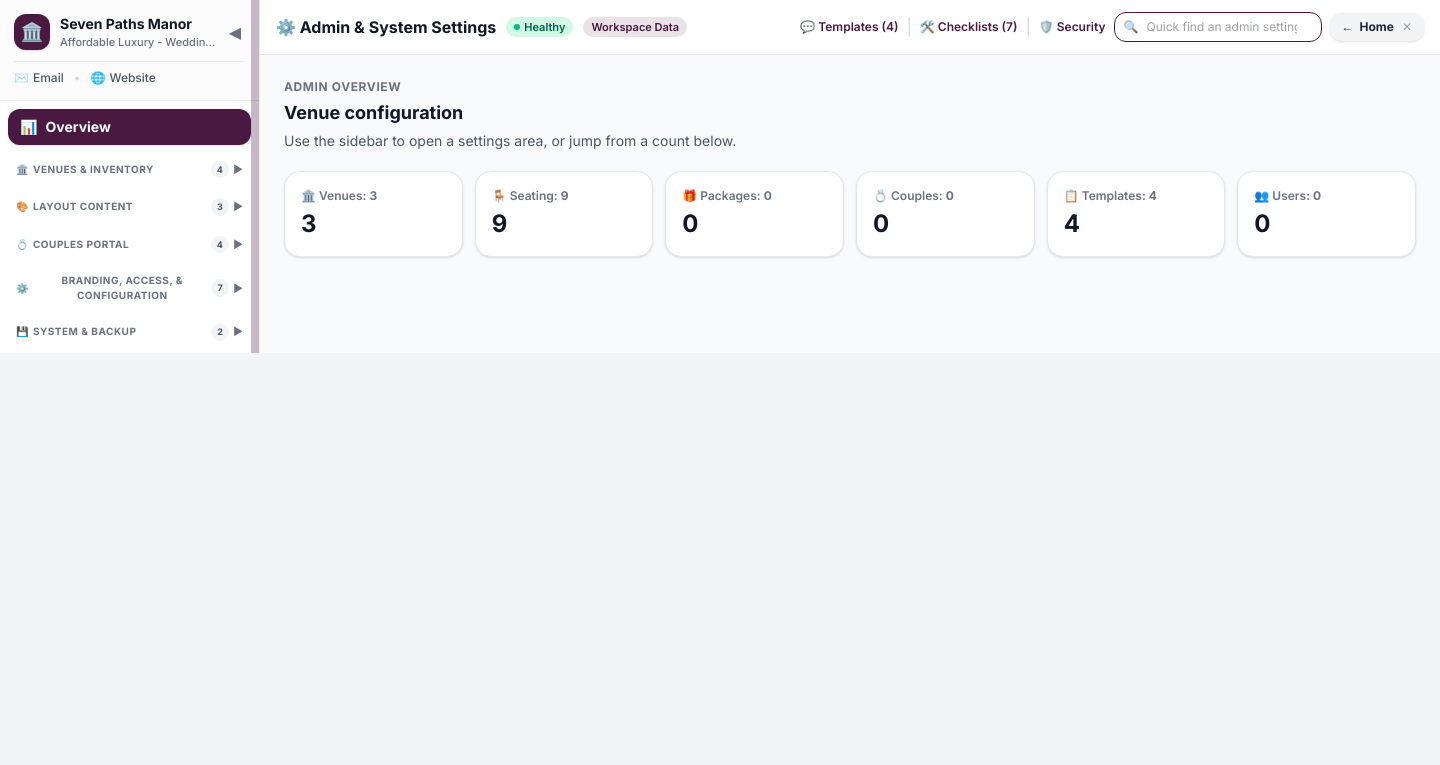
Scenario: Admin & System Settings High-Density Executive UX (#155) › renders 1-row Presets and Integrated Toolbars across TableManagement and LinenManagement
# Switch to Seating tab
Click the button "🪑 Seating: 9 9": x=564, y=214 [475,171,653,257]
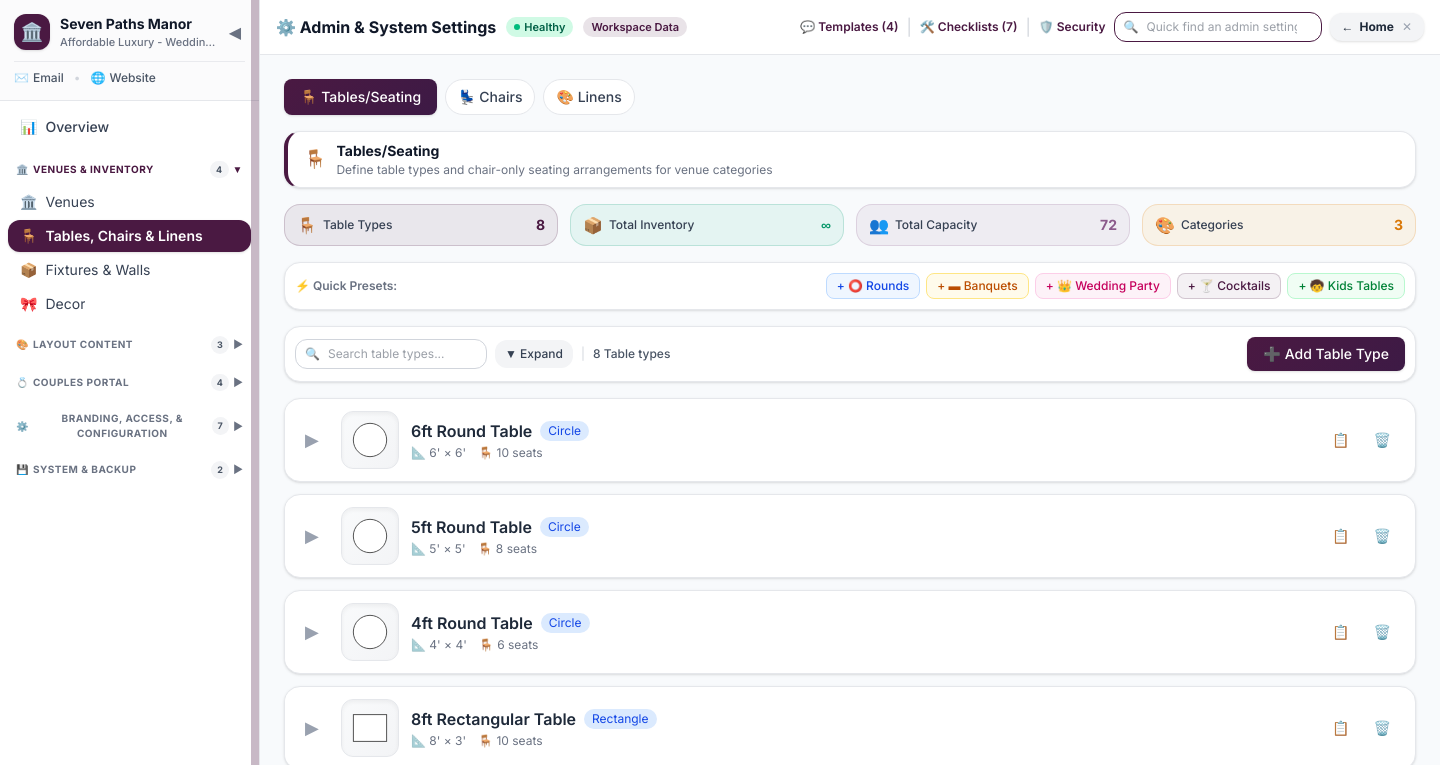
Expected: the button "+ ⭕ Rounds" is shown, [826,272,920,298]
Expected: the button "+ ▬ Banquets" is shown, [926,272,1029,298]
Expected: the button "+ 🍸 Cocktails" is shown, [1177,272,1281,298]
# Switch to Linens sub-tab
Click the button "🎨 Linens": x=589, y=97 [544,79,635,115]
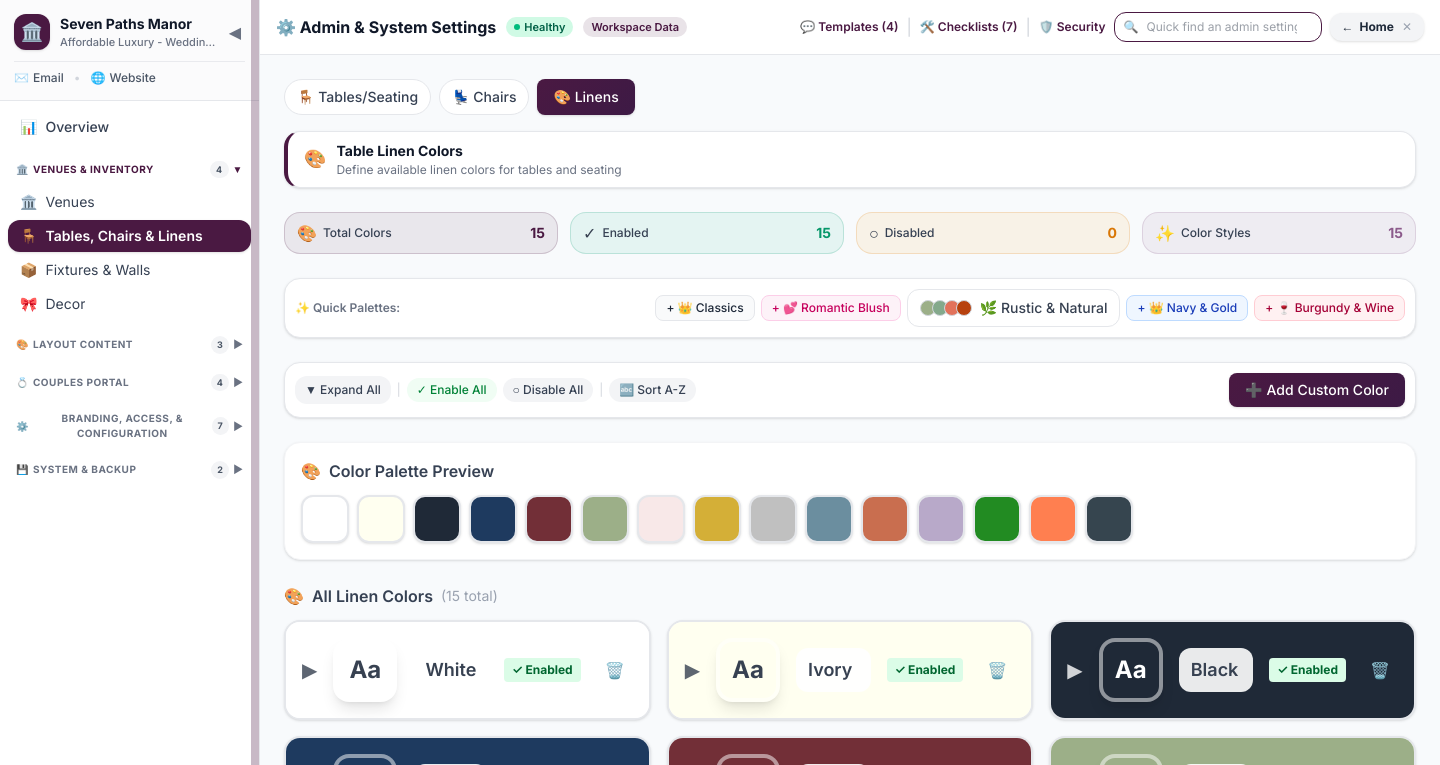
Expected: the button "+ 👑 Classics" is shown, [655,294,755,320]
Expected: the button "+ 💕 Romantic Blush" is shown, [761,294,901,320]
